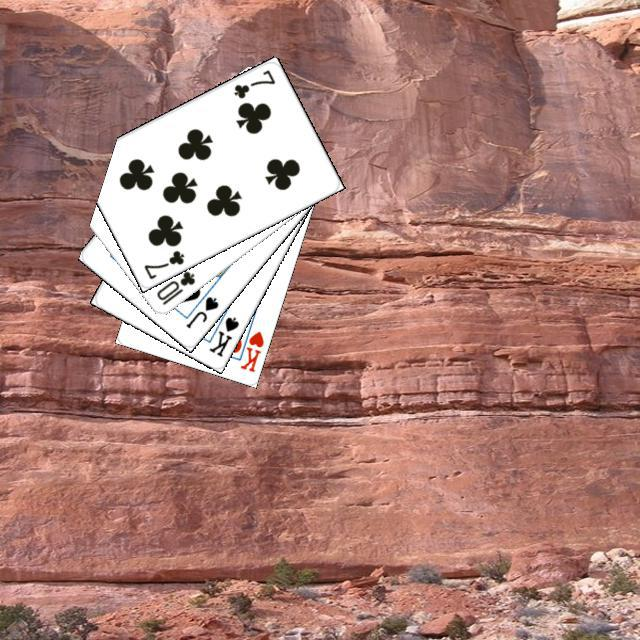10c: (151, 266, 197, 307)
7c: (139, 245, 186, 281), (229, 65, 277, 100)
Js: (181, 291, 220, 330)
Kh: (232, 319, 265, 374)
Ks: (204, 312, 241, 358)
